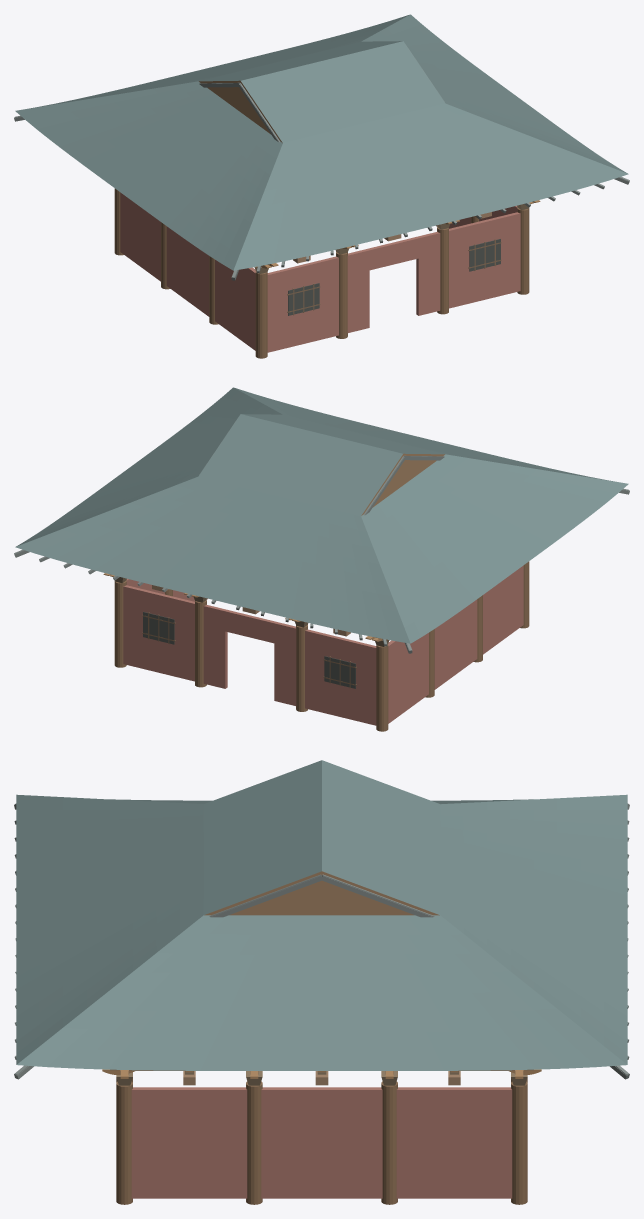
File: WANFO_FULL_V003.glb
The picture shows the model from 3 angles, top to bottom: view 1: azimuth 30°, elevation 25°; view 2: azimuth 150°, elevation 25°; view 3: azimuth 270°, elevation 25°; orthographic projection. The views are drawn at different scales.
Parts seen in each view (by area): view 1: TMP_XIESHAN_STITCHED_SURFACE_V002, TMP_FRONT_WALL_0, TMP_FRONT_WALL_2, TMP_SIDE_WALL_-1_0, TMP_SIDE_WALL_-1_1, TMP_SIDE_WALL_-1_2, TMP_FRONT_DOOR_JAMB_1, TMP_FRONT_DOOR_JAMB_-1, TMP_FRONT_DOOR_HEADER, TMP_COLUMN_0_0, TMP_COLUMN_3_0, TMP_COLUMN_1_0 (+3 smaller); view 2: TMP_XIESHAN_STITCHED_SURFACE_V002, TMP_REAR_WALL_0, TMP_REAR_WALL_2, TMP_SIDE_WALL_-1_2, TMP_SIDE_WALL_-1_1, TMP_SIDE_WALL_-1_0, TMP_REAR_DOOR_JAMB_1, TMP_REAR_DOOR_JAMB_-1, TMP_REAR_DOOR_HEADER, TMP_COLUMN_0_3, TMP_COLUMN_3_3, TMP_COLUMN_1_3 (+3 smaller); view 3: TMP_XIESHAN_STITCHED_SURFACE_V002, TMP_SIDE_WALL_1_1, TMP_SIDE_WALL_1_0, TMP_SIDE_WALL_1_2, TMP_COLUMN_3_0, TMP_COLUMN_3_3, TMP_COLUMN_3_1, TMP_COLUMN_3_2, V003_HIP_UNDER_ROOF_1_-1_0, V003_HIP_UNDER_ROOF_1_1_0.
Boxes of the visible parts, x1,y1,x2,y2 form: TMP_XIESHAN_STITCHED_SURFACE_V002: [15, 14, 628, 270]; TMP_FRONT_WALL_0: [267, 256, 338, 352]; TMP_FRONT_WALL_2: [449, 212, 520, 308]; TMP_SIDE_WALL_-1_0: [215, 260, 255, 350]; TMP_SIDE_WALL_-1_1: [166, 226, 209, 316]; TMP_SIDE_WALL_-1_2: [120, 192, 160, 281]; TMP_FRONT_DOOR_JAMB_1: [416, 231, 440, 315]; TMP_FRONT_DOOR_JAMB_-1: [347, 249, 369, 332]; TMP_FRONT_DOOR_HEADER: [368, 237, 418, 270]; TMP_COLUMN_0_0: [255, 271, 267, 358]; TMP_COLUMN_3_0: [517, 207, 529, 294]; TMP_COLUMN_1_0: [336, 252, 347, 338]; TMP_XIESHAN_STITCHED_SURFACE_V002: [15, 387, 628, 643]; TMP_REAR_WALL_0: [305, 629, 376, 725]; TMP_REAR_WALL_2: [123, 585, 194, 681]; TMP_SIDE_WALL_-1_2: [388, 633, 428, 723]; TMP_SIDE_WALL_-1_1: [434, 599, 477, 689]; TMP_SIDE_WALL_-1_0: [483, 565, 523, 654]; TMP_REAR_DOOR_JAMB_1: [203, 604, 227, 688]; TMP_REAR_DOOR_JAMB_-1: [274, 622, 296, 705]; TMP_REAR_DOOR_HEADER: [225, 610, 275, 643]; TMP_COLUMN_0_3: [376, 644, 388, 731]; TMP_COLUMN_3_3: [114, 580, 126, 667]; TMP_COLUMN_1_3: [296, 625, 307, 711]; TMP_XIESHAN_STITCHED_SURFACE_V002: [16, 760, 627, 1070]; TMP_SIDE_WALL_1_1: [261, 1087, 382, 1198]; TMP_SIDE_WALL_1_0: [131, 1087, 247, 1198]; TMP_SIDE_WALL_1_2: [396, 1087, 512, 1198]; TMP_COLUMN_3_0: [116, 1081, 132, 1204]; TMP_COLUMN_3_3: [511, 1081, 527, 1204]; TMP_COLUMN_3_1: [246, 1081, 262, 1204]; TMP_COLUMN_3_2: [381, 1081, 397, 1204]; V003_HIP_UNDER_ROOF_1_-1_0: [210, 876, 322, 917]; V003_HIP_UNDER_ROOF_1_1_0: [321, 876, 433, 917].
Size of the model in its own units: 17479 by 8870 by 16714.
